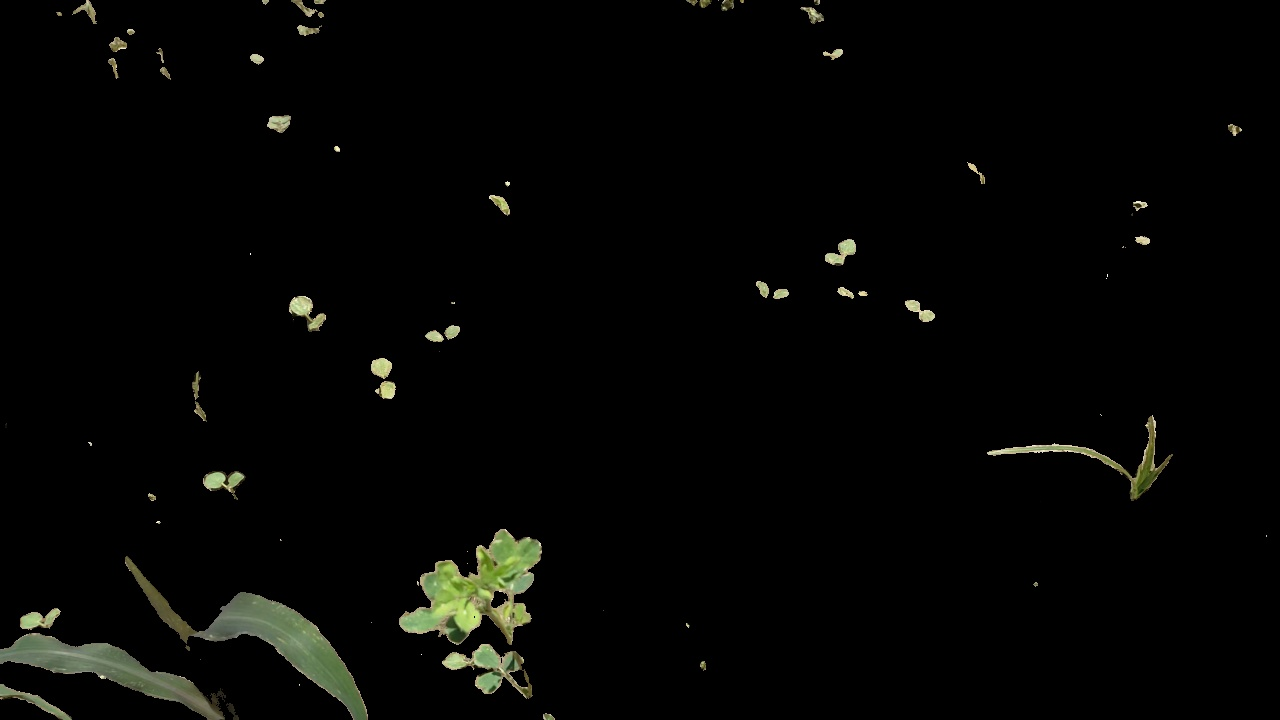crop: (111, 542, 383, 720), (3, 630, 221, 720)
weed: (386, 524, 545, 705), (988, 417, 1173, 496), (282, 291, 332, 339), (197, 468, 255, 504), (365, 346, 399, 407), (21, 599, 67, 631), (821, 233, 858, 271), (901, 294, 944, 326), (747, 276, 791, 307), (421, 317, 462, 344), (835, 283, 869, 301)
